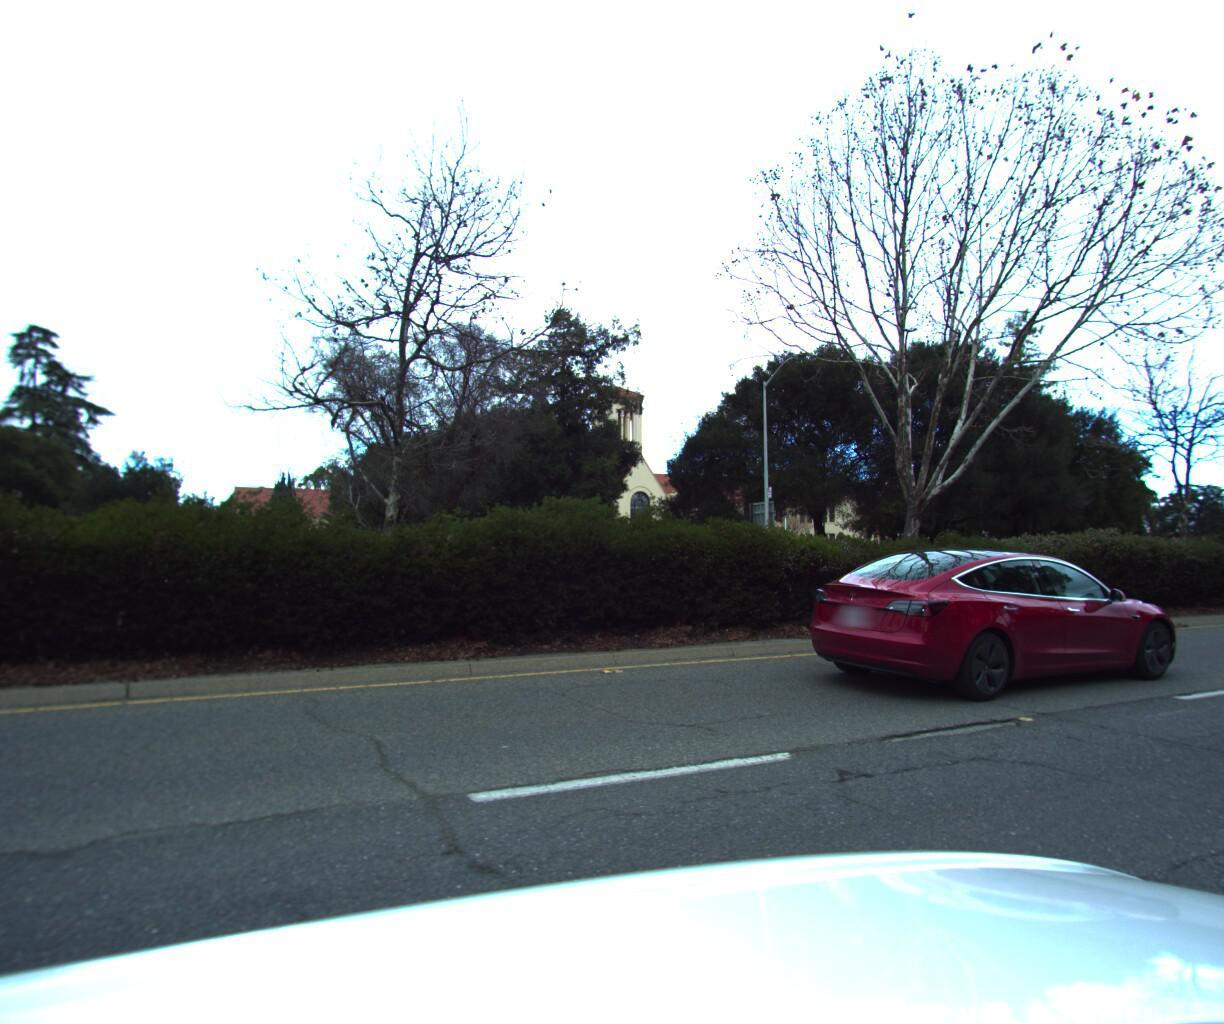car: (784, 525, 1189, 701)
